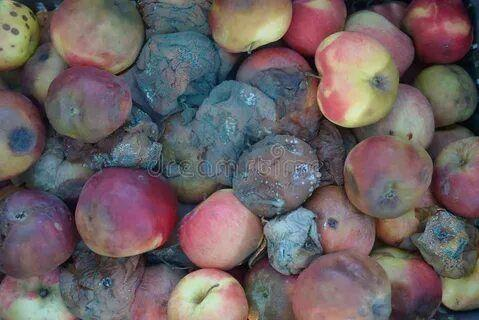Apple: (77, 168, 178, 259), (343, 138, 434, 222), (232, 136, 322, 219), (291, 250, 392, 320), (134, 32, 218, 115), (43, 68, 131, 143), (2, 194, 74, 280), (411, 214, 478, 276)
